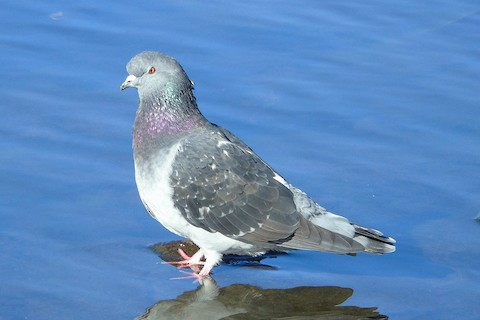pigeon: (118, 46, 403, 286)
